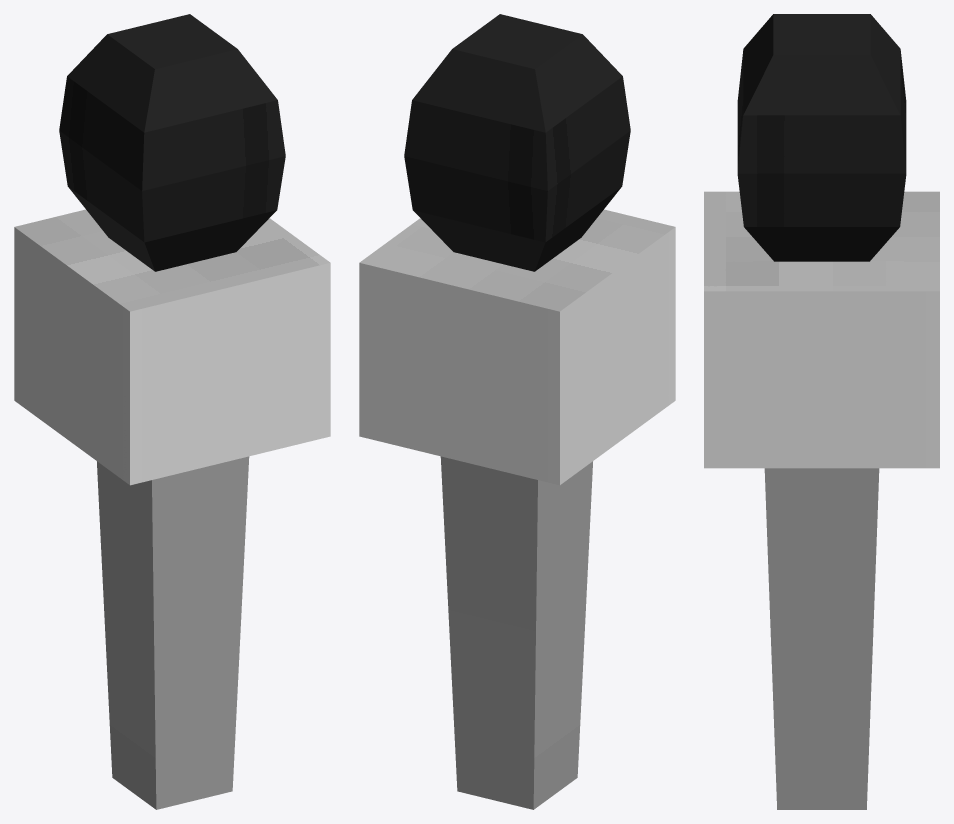
Rendered from 2cDNCSVfAfv.glb.
The picture shows the model from 3 angles, left to right: view 1: azimuth 30°, elevation 25°; view 2: azimuth 150°, elevation 25°; view 3: azimuth 270°, elevation 25°; orthographic projection.
Parts seen in each view (by area): view 1: MICROPHONE_Cube.002; view 2: MICROPHONE_Cube.002; view 3: MICROPHONE_Cube.002.
Boxes of the visible parts, x1=… form: MICROPHONE_Cube.002: x1=14, y1=14, x2=330, y2=809; MICROPHONE_Cube.002: x1=359, y1=14, x2=675, y2=809; MICROPHONE_Cube.002: x1=704, y1=14, x2=939, y2=809.
Bounding box in the file's own units: 0.2825 × 1 × 0.2825.
1 material, 1 textured.
